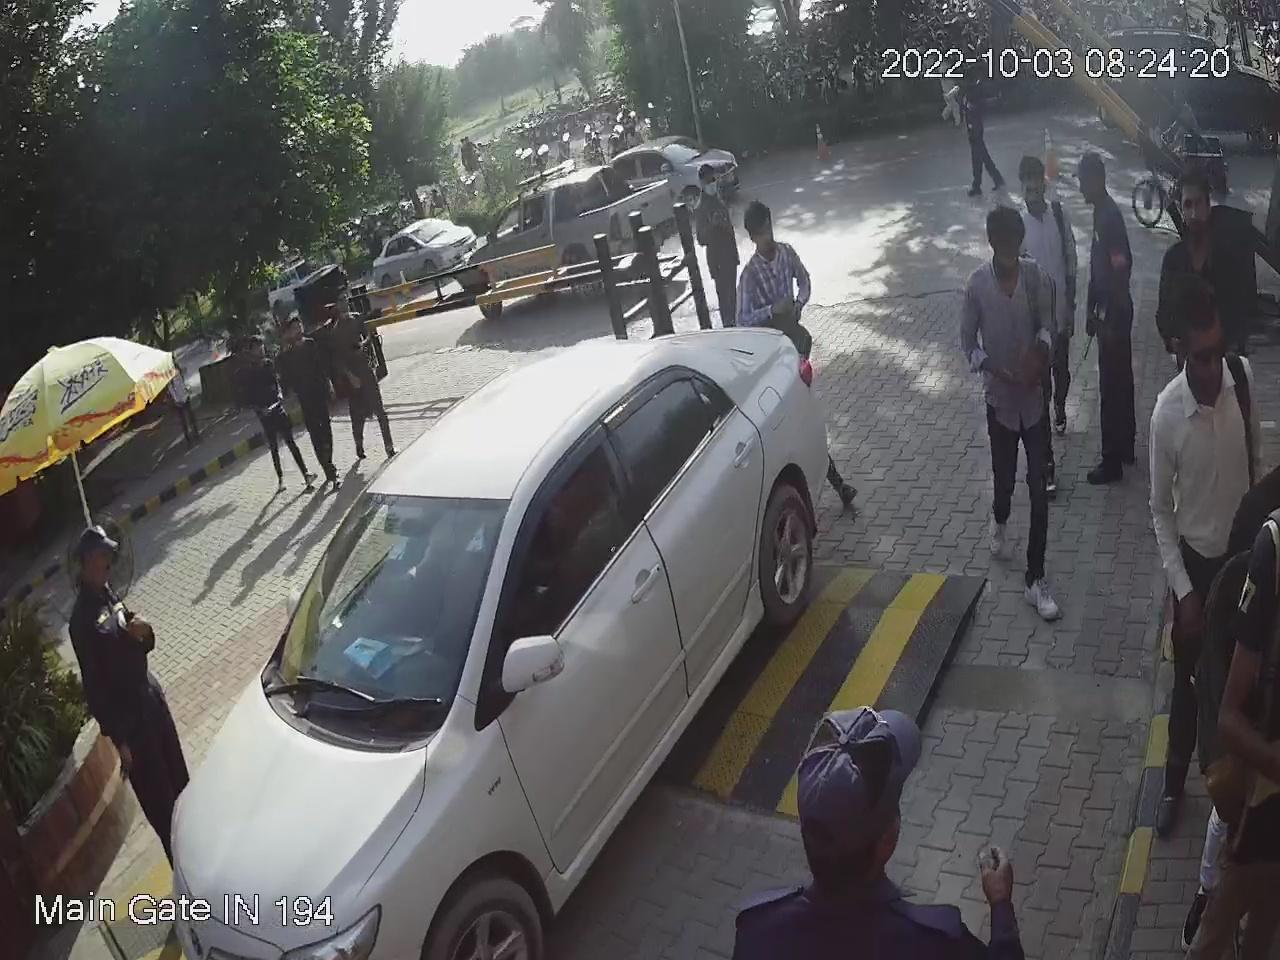windshield: (261, 482, 511, 737)
